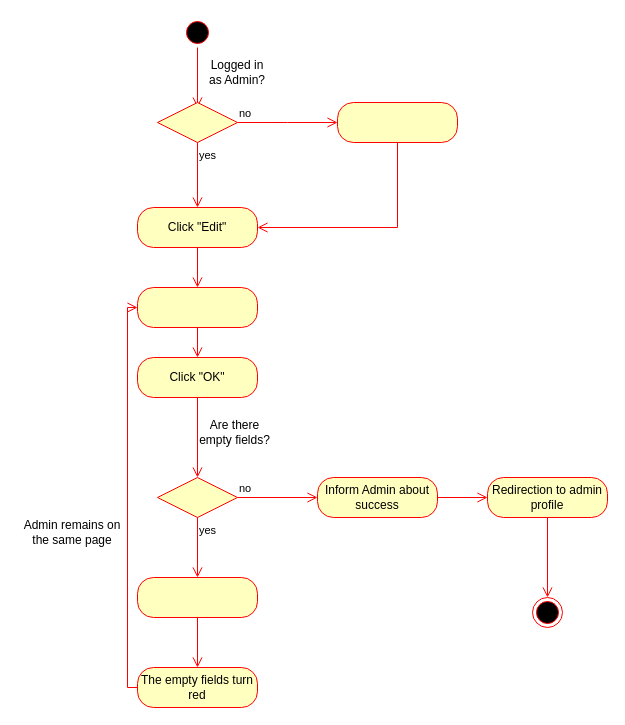
Image size: 625x725. Some labels were removed from this diagram. The centre of each missing label's shape, as x and y in pixels:
Change Course Details: pixel 197 307
Inform Adim about failure: pixel 197 597
Log in: pixel 397 122
